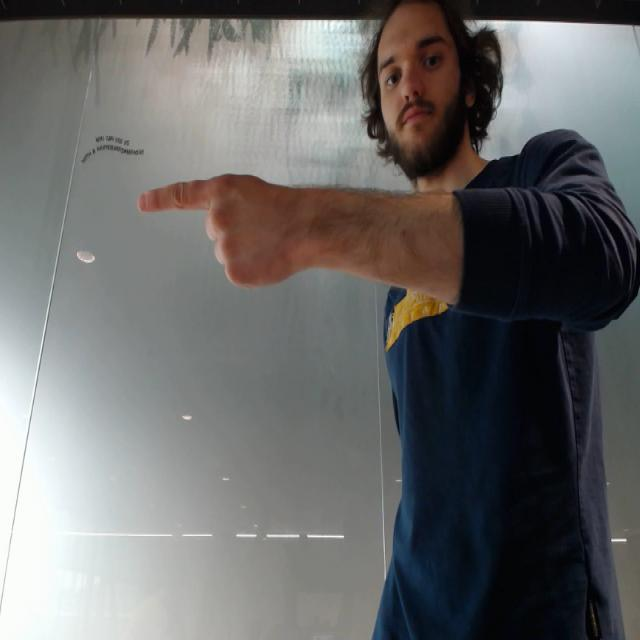left: (134, 164, 316, 298)
